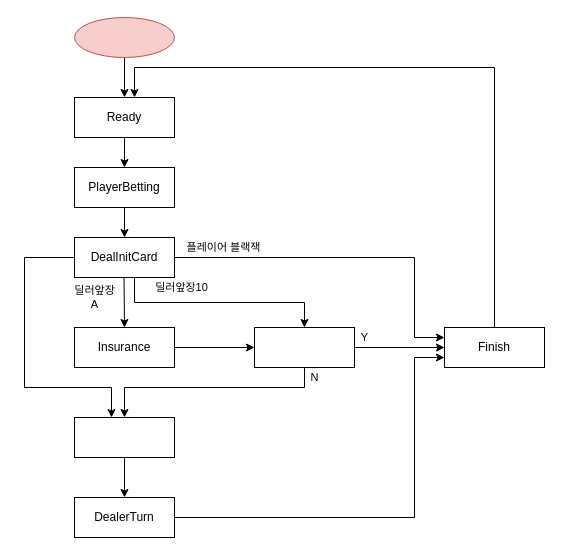
The diagram is 562 pixels wide and 555 high, and some of its shapes have lost their labels. The shapes that lost their labels are listed below. From the top down, each one's box as (x1, y1, x2, y2) in pixels, then its label:
(74, 16, 174, 58): 시작
(254, 326, 354, 368): DealerBlackjack Check
(74, 416, 174, 458): PlayerTurn
